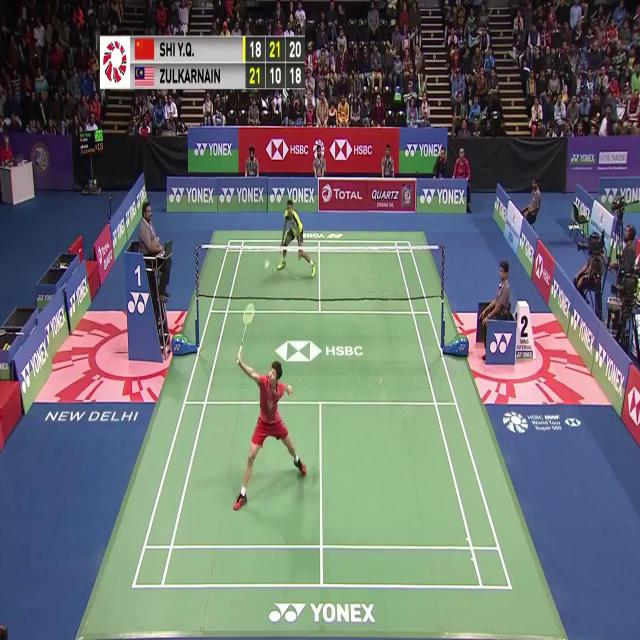Shuttlecock: (265, 256, 271, 268)
